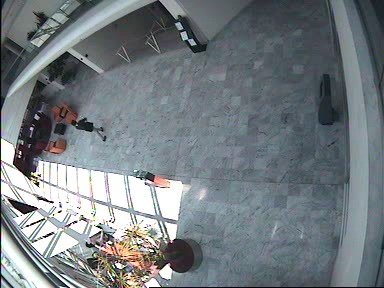person: (70, 117, 107, 142)
